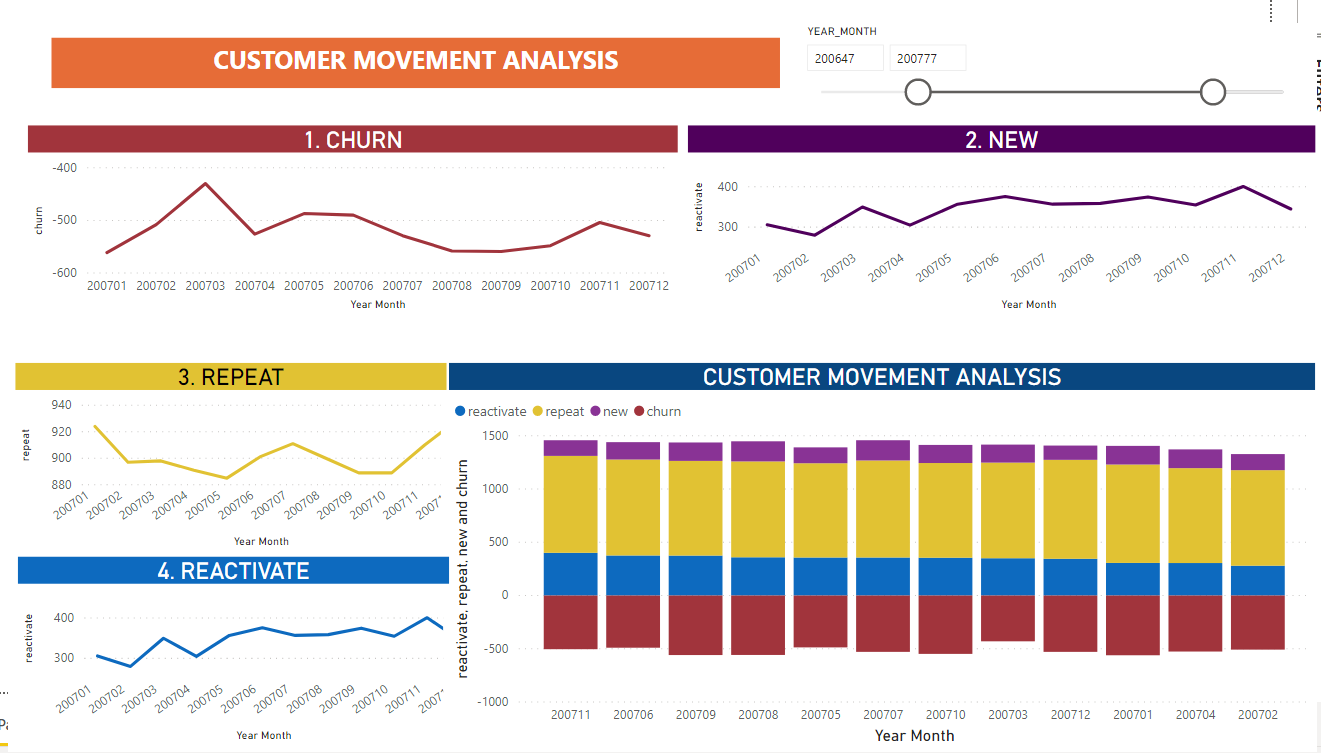

This screenshot's page, from the dashboard's own definition file:
{"tool":"powerbi","page":{"name":"Page 1","canvas":[1280,720],"ordinal":0},"visuals":[{"type":"textbox","box":[10,0,280,280],"z":0},{"type":"textbox","title":"CUSTOMER MOVEMENT ANALYSIS","box":[20.6,16.9,1259.7,50.8],"z":1},{"type":"slicer","fields":{"Values":["bq-results-20210619-202810-8vu211e9sfag.YEARMONTH"]},"box":[977.7,8.5,280.7,69],"z":2},{"type":"lineChart","title":"1. CHURN","fields":{"Y":["Sum(bq-results-20210619-202810-8vu211e9sfag.CHURN_CUSTOMER)"],"Category":["bq-results-20210619-202810-8vu211e9sfag.YEARMONTH"]},"box":[9.7,79.9,603.8,168.2],"z":3},{"type":"lineChart","title":"2. NEW","fields":{"Y":["Sum(bq-results-20210619-202810-8vu211e9sfag.NEW_CUSTOMER)"],"Category":["bq-results-20210619-202810-8vu211e9sfag.YEARMONTH"]},"box":[626.8,78.7,636.5,168.2],"z":4},{"type":"lineChart","title":"3. REPEAT","fields":{"Y":["Sum(bq-results-20210619-202810-8vu211e9sfag.REPEAT_CUSTOMER)"],"Category":["bq-results-20210619-202810-8vu211e9sfag.YEARMONTH"]},"box":[15.7,265,603.8,175.5],"z":5},{"type":"lineChart","title":"4. REACTIVATE","fields":{"Y":["Sum(bq-results-20210619-202810-8vu211e9sfag.REACTIVATED_CUSTOMER)"],"Category":["bq-results-20210619-202810-8vu211e9sfag.YEARMONTH"]},"box":[9.7,465.9,617.1,173],"z":6},{"type":"columnChart","title":"CUSTOMER MOVEMENT SUMMARY","fields":{"Y":["Sum(bq-results-20210619-202810-8vu211e9sfag.CHURN_CUSTOMER)","Sum(bq-results-20210619-202810-8vu211e9sfag.NEW_CUSTOMER)","Sum(bq-results-20210619-202810-8vu211e9sfag.REPEAT_CUSTOMER)","Sum(bq-results-20210619-202810-8vu211e9sfag.REACTIVATED_CUSTOMER)"],"Category":["bq-results-20210619-202810-8vu211e9sfag.YEARMONTH"]},"box":[626.8,265,636.5,373.9],"z":7}]}

Visuals, with their boxes in screenshot pixels (x1, y1, x2, y2), scaled from the page's 1280x720 canvas onto the 1321x753 screenshot:
textbox: (10,0,299,293)
"CUSTOMER MOVEMENT ANALYSIS" textbox: (21,18,1320,71)
slicer - bq-results-20210619-202810-8vu211e9sfag.YEARMONTH: (1009,9,1299,81)
"1. CHURN" lineChart: (10,84,633,259)
"2. NEW" lineChart: (647,82,1304,258)
"3. REPEAT" lineChart: (16,277,639,461)
"4. REACTIVATE" lineChart: (10,487,647,668)
"CUSTOMER MOVEMENT SUMMARY" columnChart: (647,277,1304,668)
